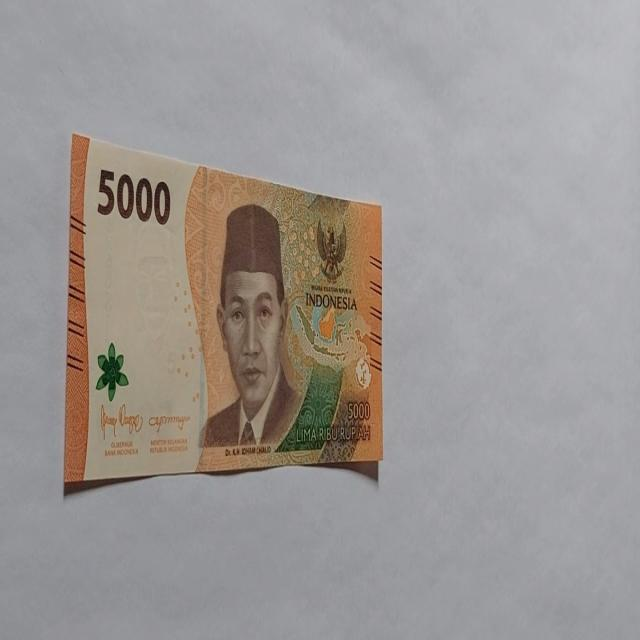lima ribu rupiah: (64, 132, 384, 494), (196, 202, 302, 456)
